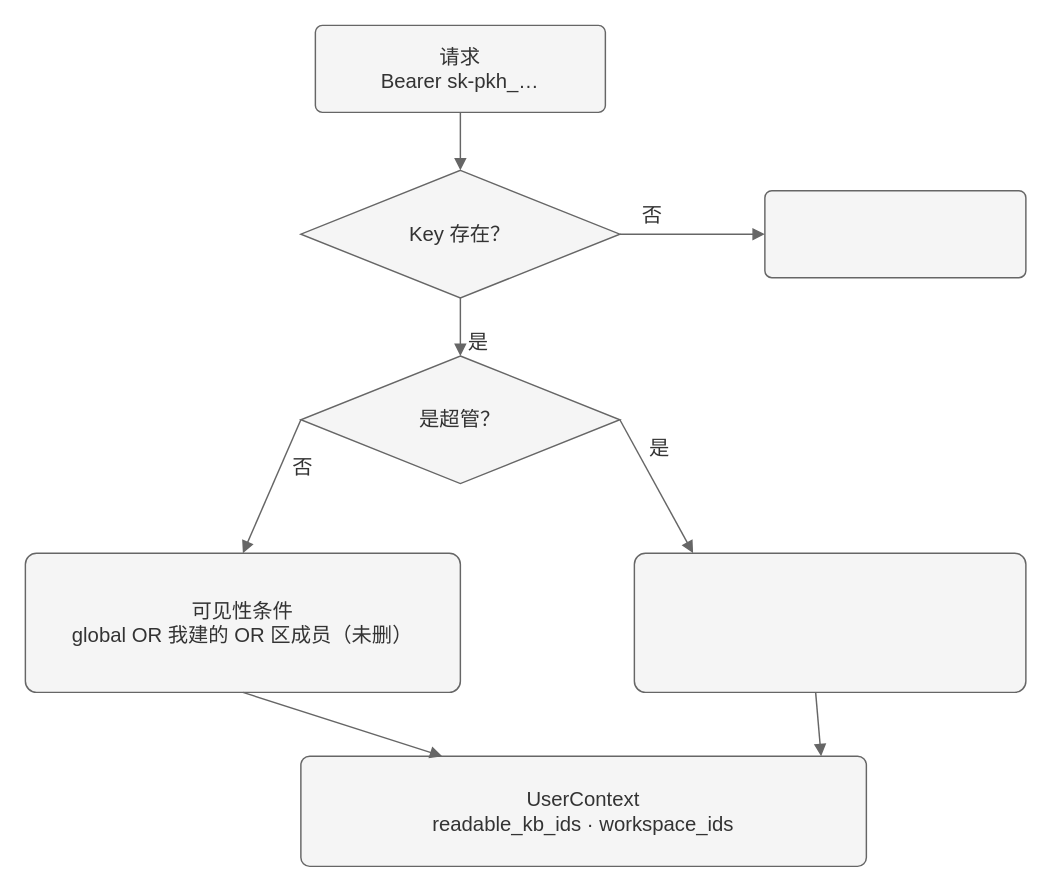
This 1051x892 diagram has some shape labels left out. The box of each missing label's shape, as (x1, y1, x2, y2) in pixels:
401 INVALID_TOKEN 不存在 / 吊销 / 过期同码: (763, 189, 1026, 278)
全部未软删的库与工作区: (633, 552, 1026, 692)
